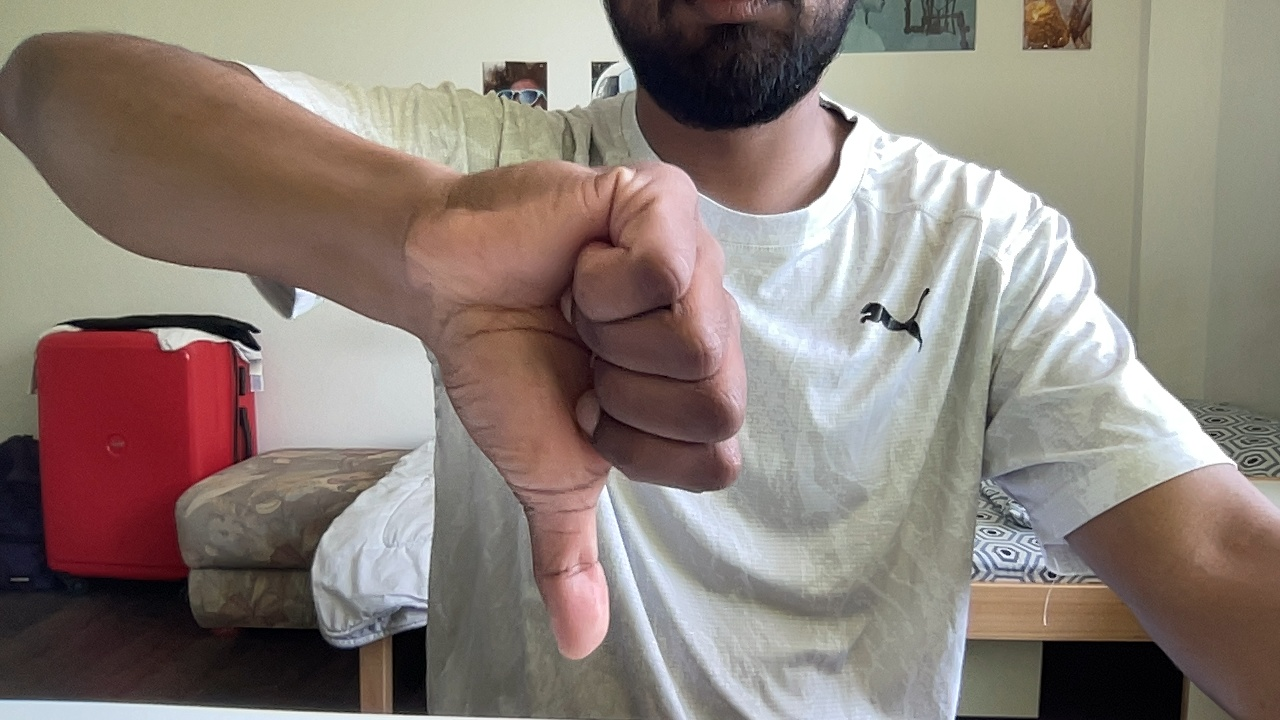ThumbsDown: (410, 157, 750, 663)
